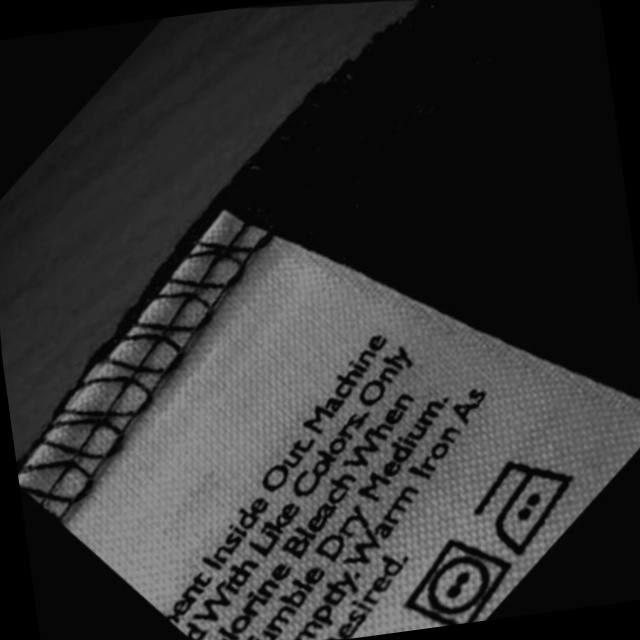iron_medium: (466, 448, 591, 563)
tumble_dry_medium: (397, 529, 523, 631)
